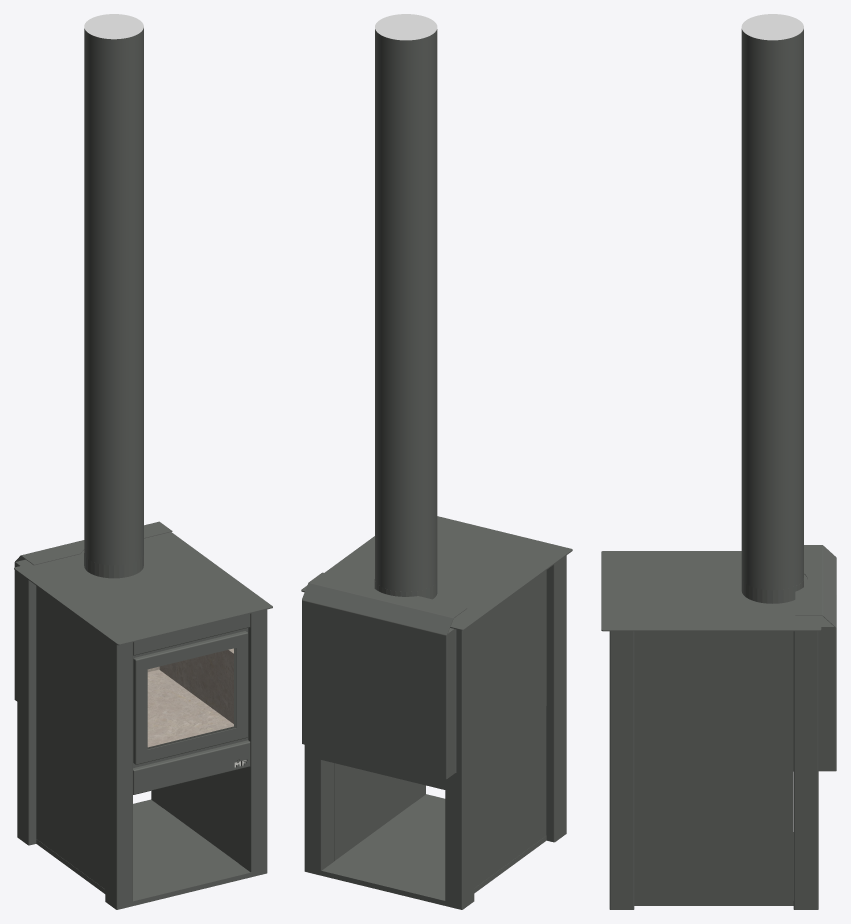
The model's file is fogopro.glb.
The picture shows the model from 3 angles, left to right: view 1: azimuth 30°, elevation 25°; view 2: azimuth 150°, elevation 25°; view 3: azimuth 270°, elevation 25°; orthographic projection. The views are drawn at different scales.
Parts seen in each view (by area): view 1: G-Object.001, _C-skp2F9D (Loose Mesh); view 2: G-Object.001, _C-skp2F9D (Loose Mesh); view 3: G-Object.001, _C-skp2F9D (Loose Mesh).
Part boxes in pixels (x1,y1,x2,y2): G-Object.001: (14, 521, 272, 909); _C-skp2F9D (Loose Mesh): (84, 14, 143, 565); G-Object.001: (301, 516, 572, 909); _C-skp2F9D (Loose Mesh): (375, 14, 437, 591); G-Object.001: (601, 545, 836, 909); _C-skp2F9D (Loose Mesh): (741, 14, 803, 590).
Size of the model in its own units: 0.5393 by 2.68 by 0.6775.
Materials: 5 (1 with a texture image).
